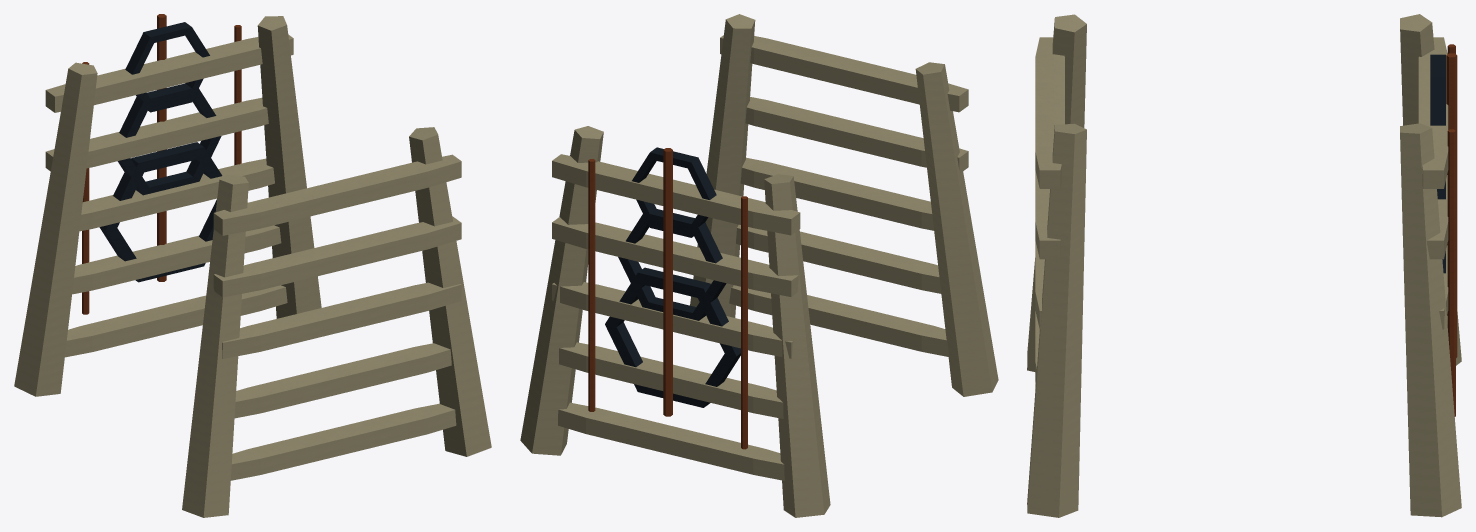
Rendered from crown-faceted-antenna-0.glb.
The picture shows the model from 3 angles, left to right: view 1: azimuth 30°, elevation 25°; view 2: azimuth 150°, elevation 25°; view 3: azimuth 270°, elevation 25°; orthographic projection. The views are drawn at different scales.
Parts seen in each view (by area): view 1: crown-faceted-antenna_LOD0; view 2: crown-faceted-antenna_LOD0; view 3: crown-faceted-antenna_LOD0.
Part boxes in pixels (x1,y1,x2,y2): crown-faceted-antenna_LOD0: (14,14,491,517); crown-faceted-antenna_LOD0: (520,14,998,517); crown-faceted-antenna_LOD0: (1027,14,1461,517).
Size of the model in its own units: 0.8771 by 0.9281 by 0.9522.
Materials: 3 (3 with a texture image).
